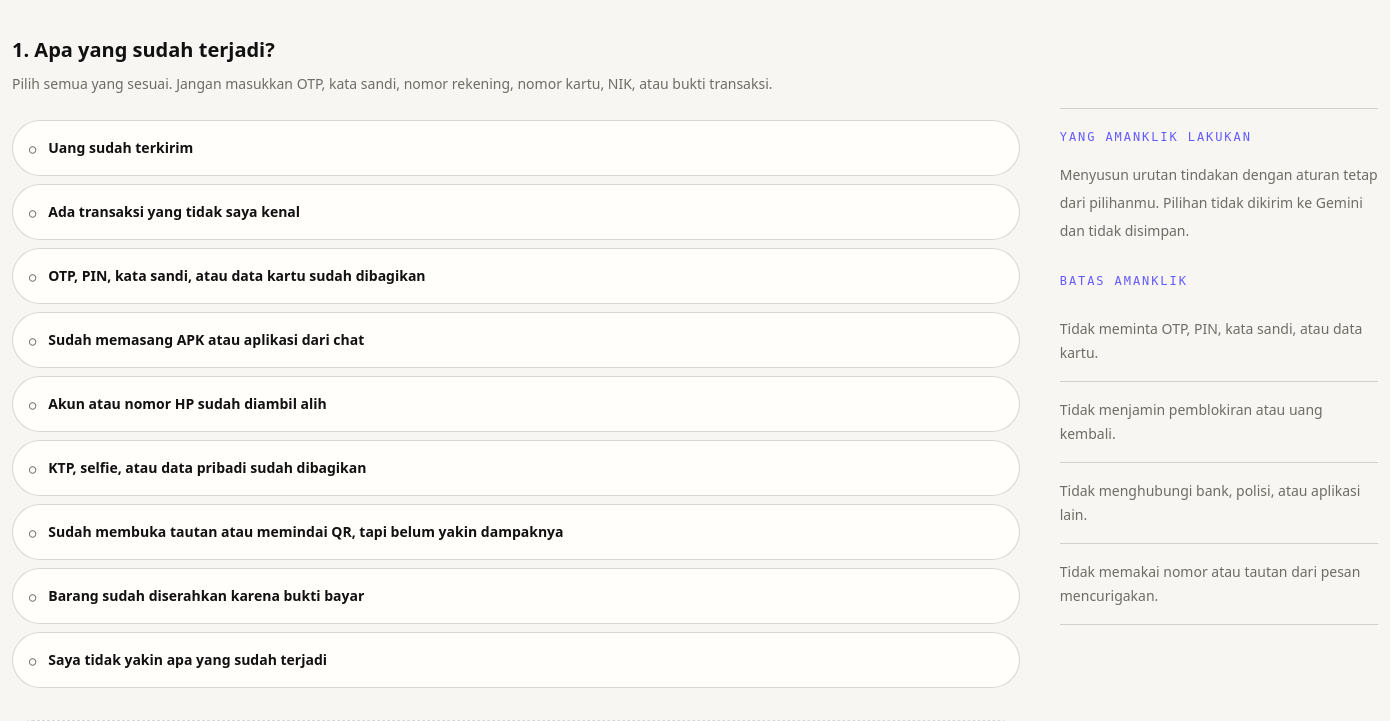
Test: RespondClient › supports multiple selections and resets the complete triage
Click the button "○Uang sudah terkirim".
click(121, 148)  # box [12, 120, 1020, 176]
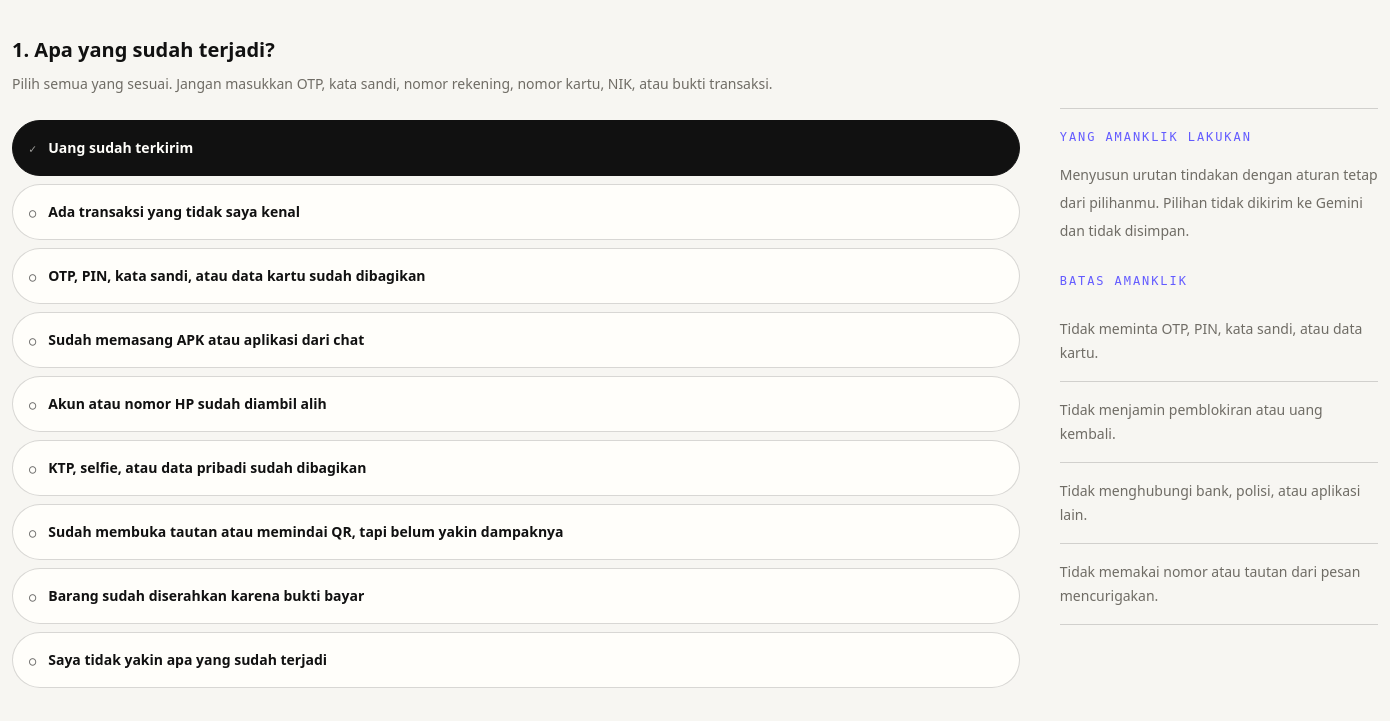
Click the button "○OTP, PIN, kata sandi, atau data kartu sudah dibagikan".
click(237, 276)  # box [12, 248, 1020, 304]
(page scrolled)
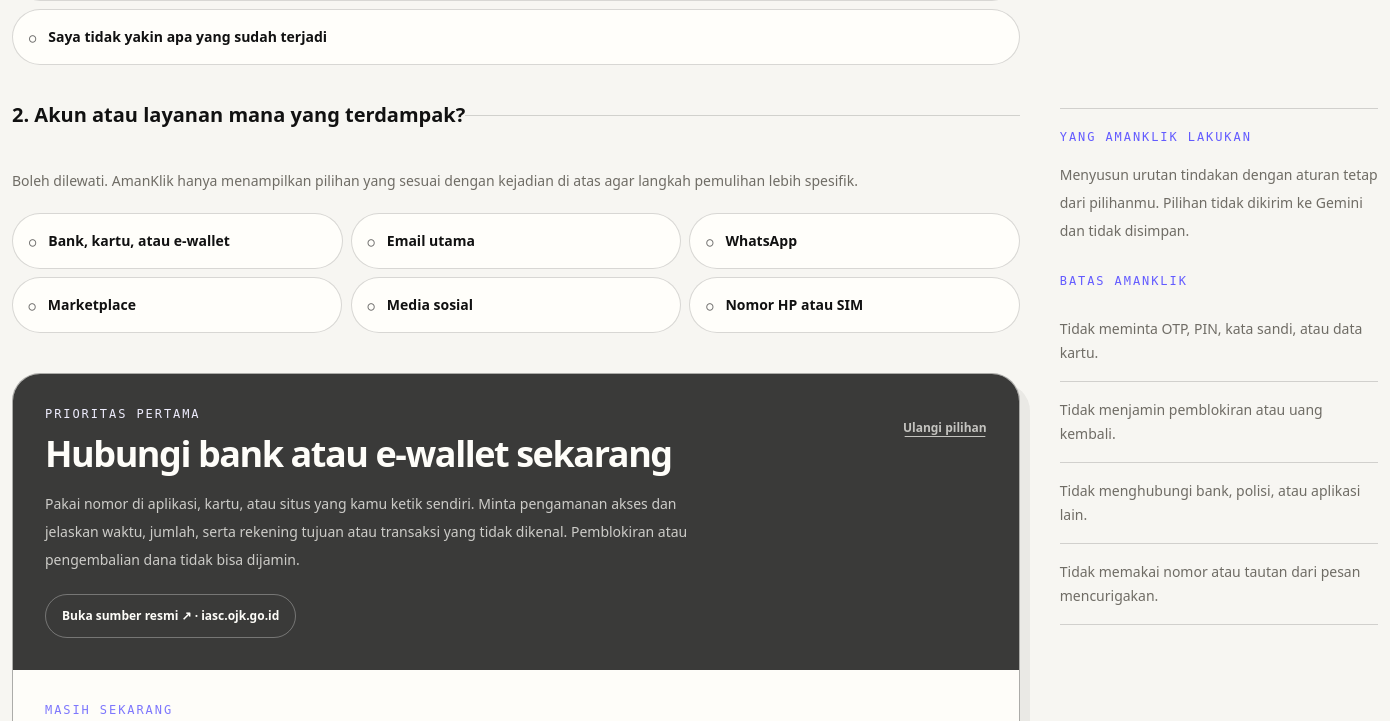
Check: the heading "Hubungi bank atau e-wallet sekarang" is shown, box [45, 434, 717, 474]
Click the button "Ulangi pilihan".
click(945, 428)  # box [903, 406, 987, 450]
(page scrolled)
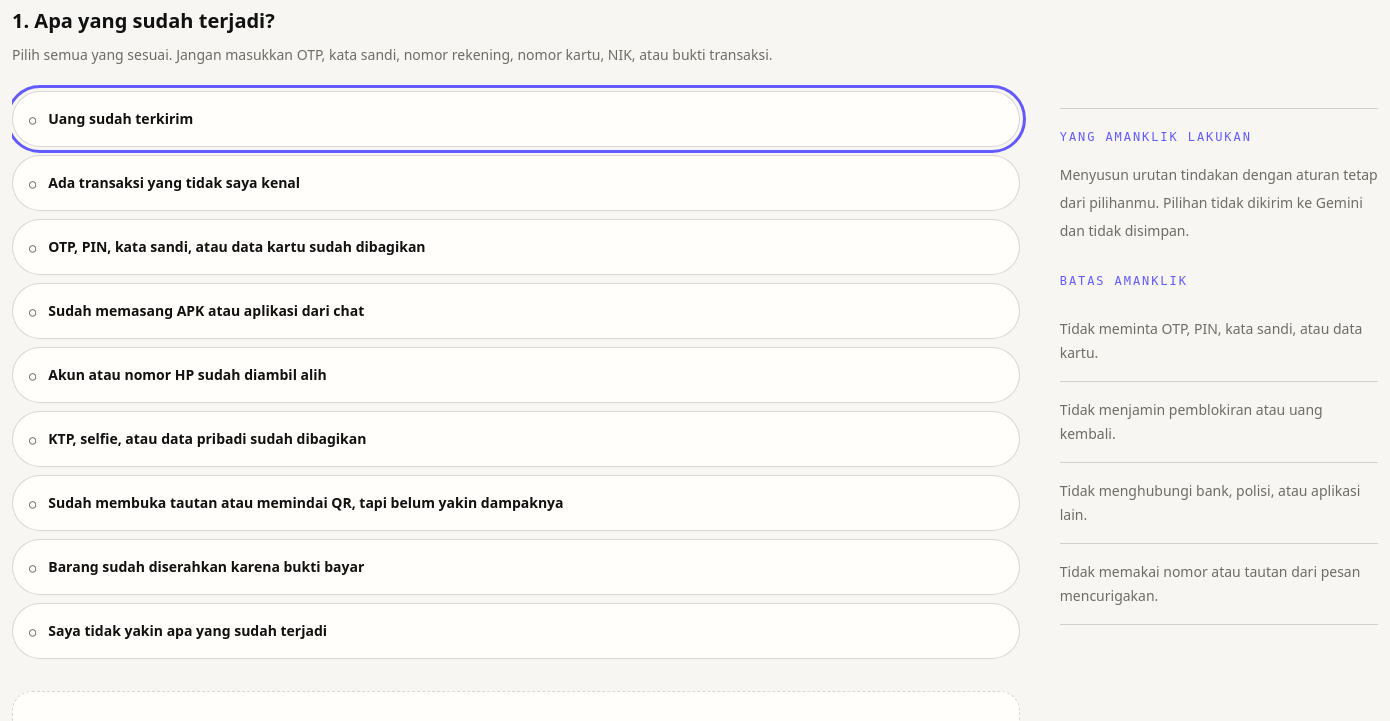
Check: the heading "Hubungi bank atau e-wallet sekarang" is gone
